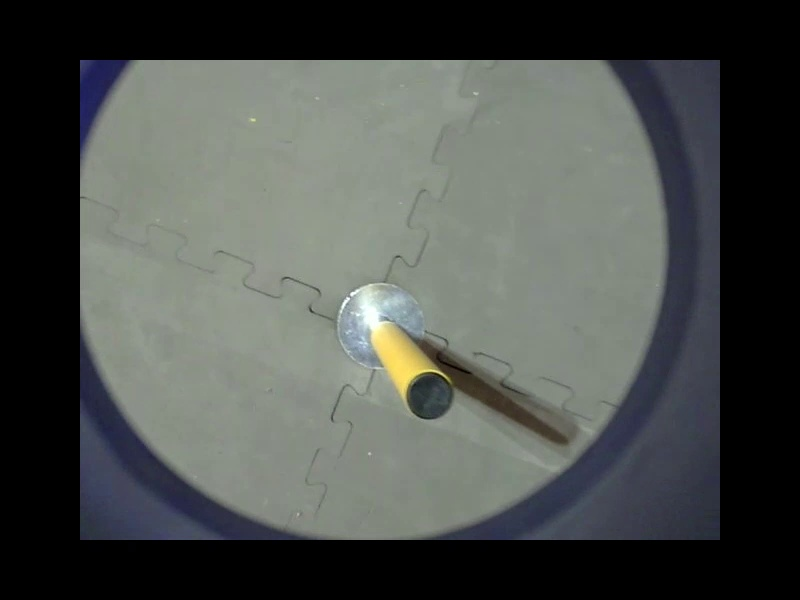tip: (400, 361, 459, 422)
